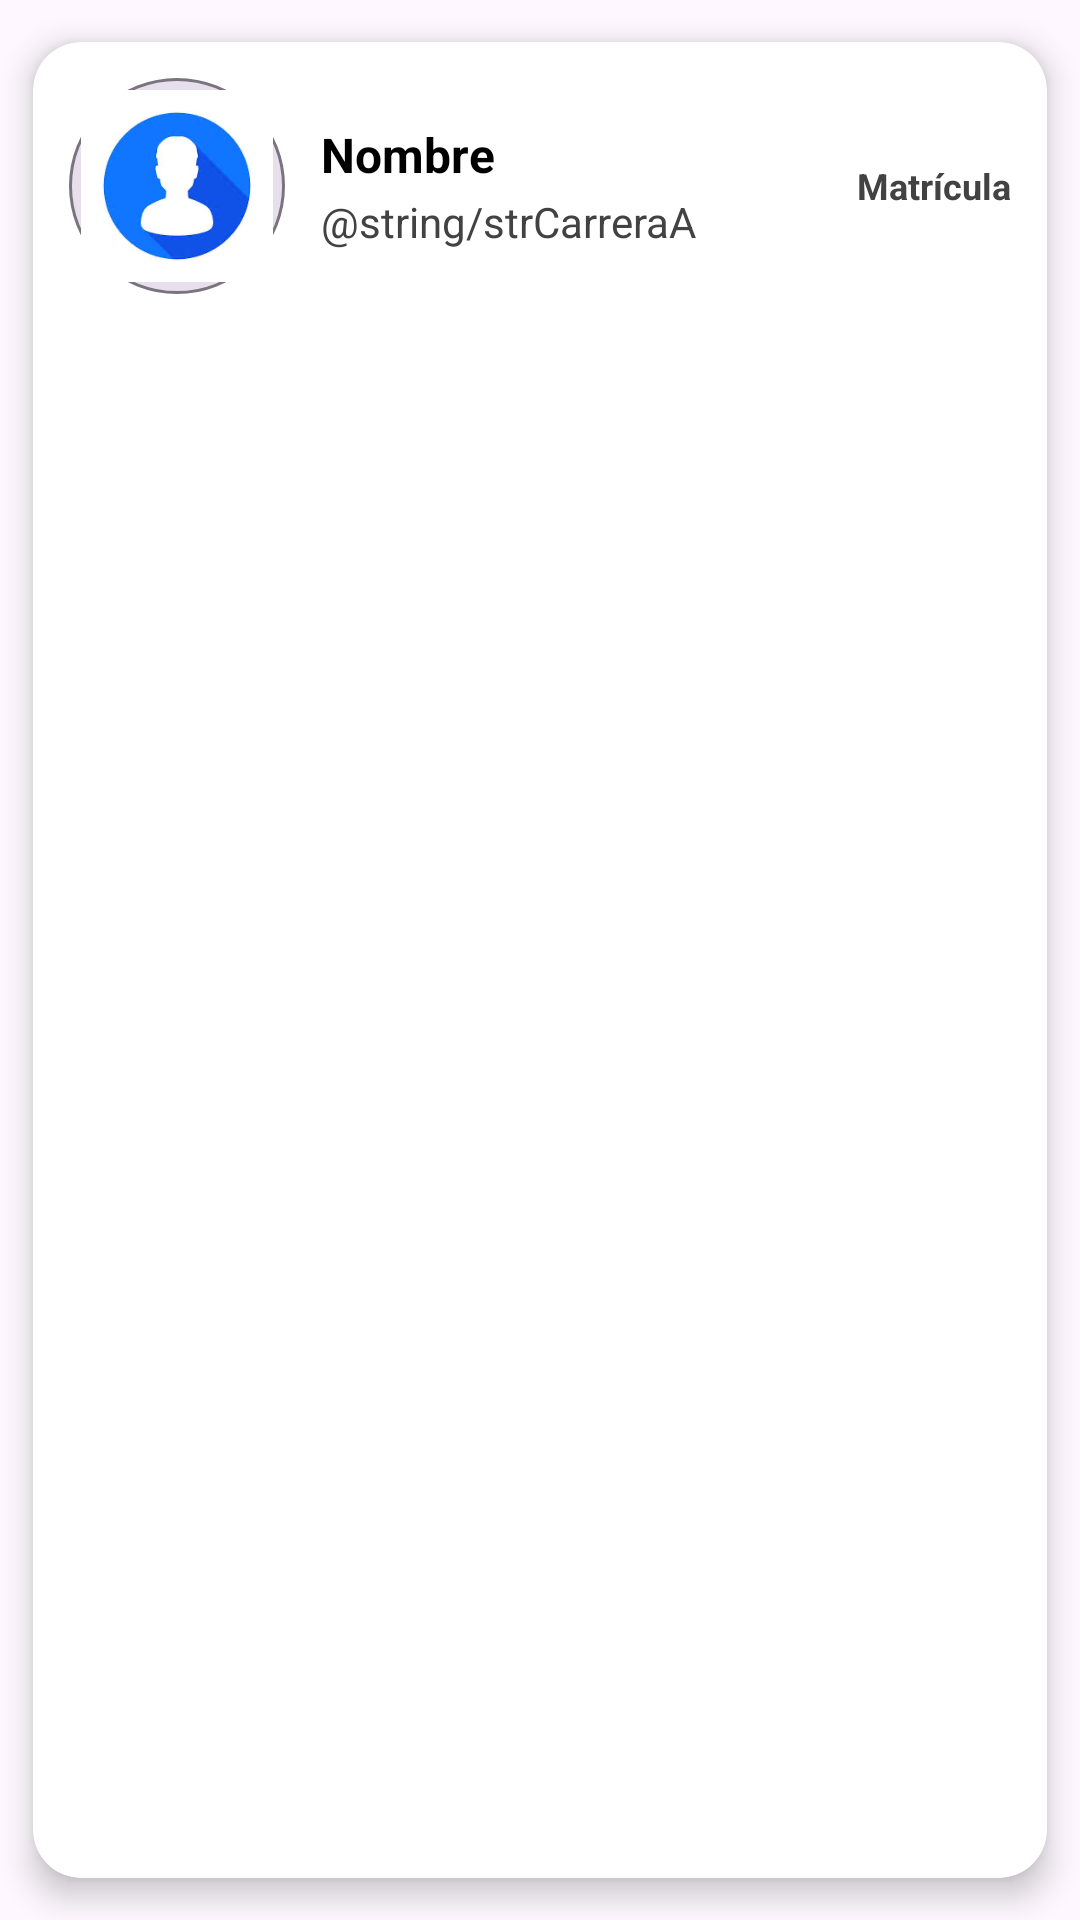

Icons on this 1080x1920 Android screen, each with the point to tap as (x=x, y=y):
alumno: (x=177, y=186)
